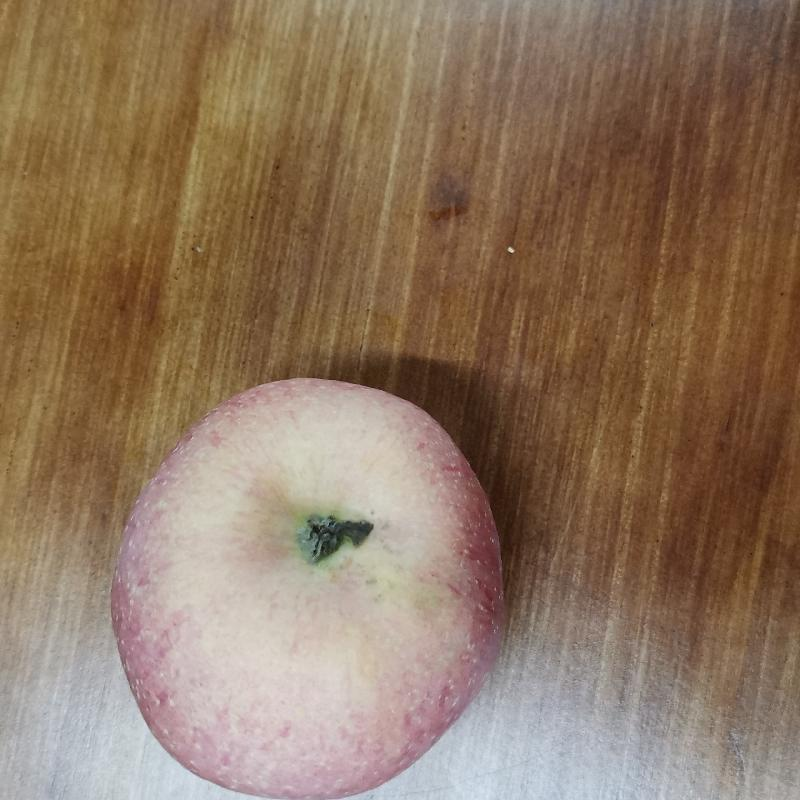apples: (91, 365, 519, 800)
